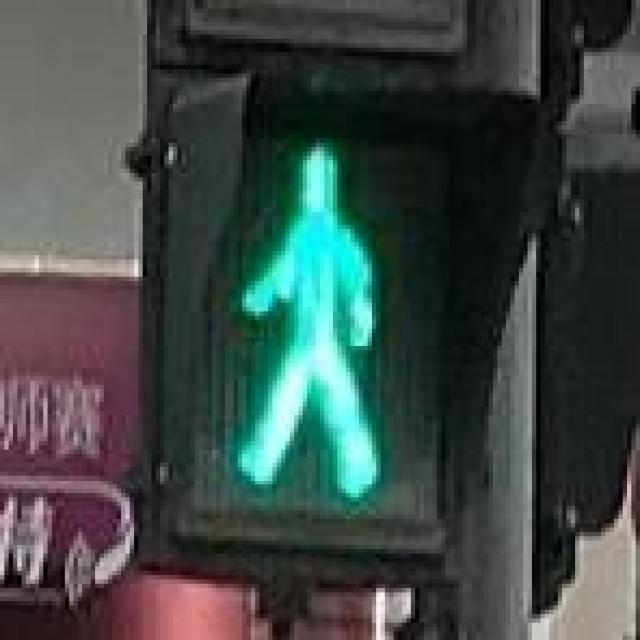geen-crossing: (190, 104, 441, 532)
